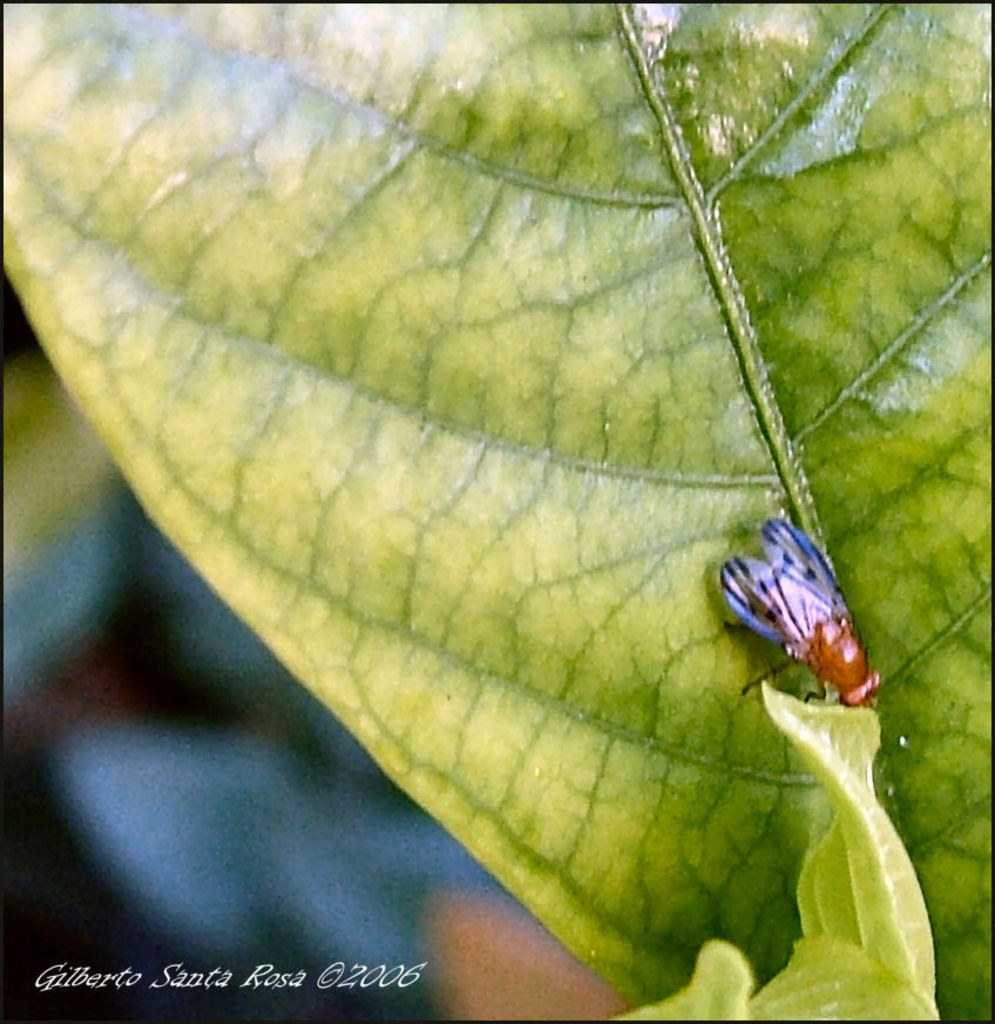insect: (722, 518, 893, 703)
